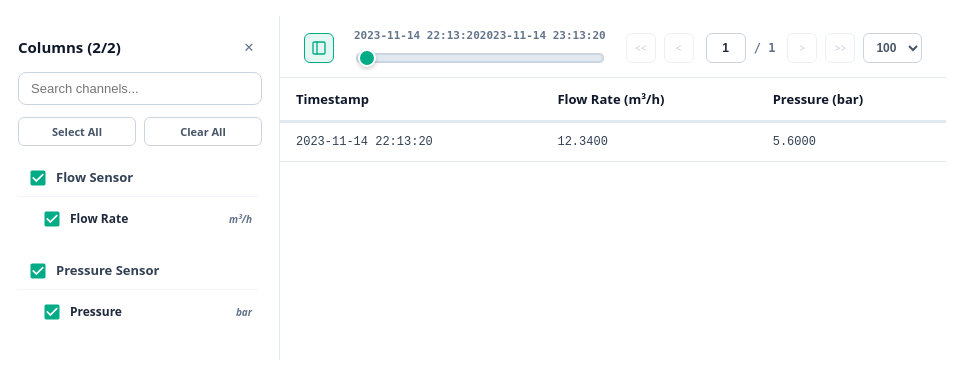
it: TableView - Columns Toggle Controls › renders icon toggle button in toolbar and toggles sidebar expansion
Click the button with class "toggle-columns-btn". click: point(319, 48)
box: [304,32,334,62]
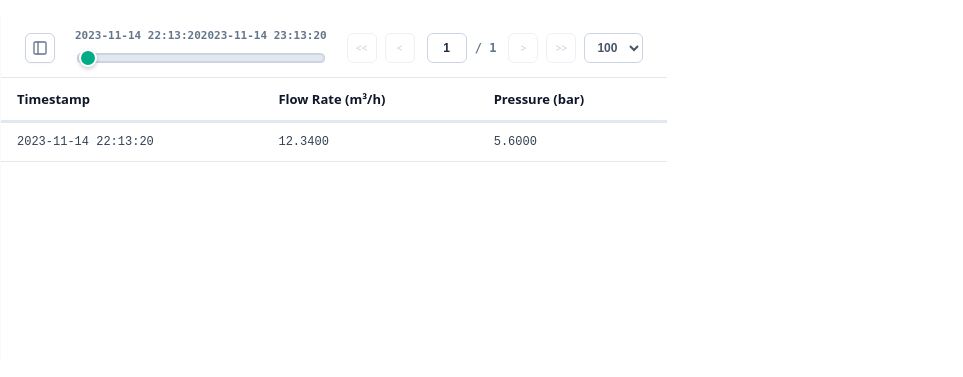
Check: the button with class "toggle-columns-btn" is collapsed
Click the button with class "toggle-columns-btn". click: point(40, 48)
box: [25,32,55,62]
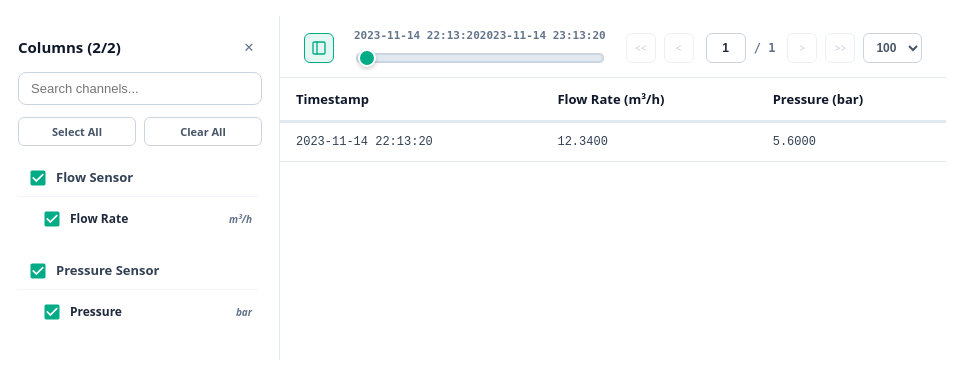
Check: the button with class "toggle-columns-btn" is expanded, box [304,32,334,62]
